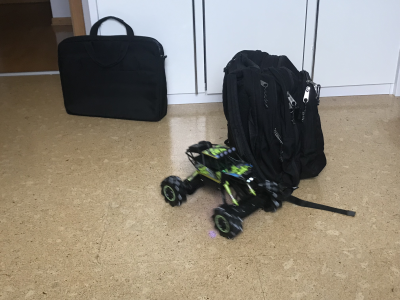remote control car: (160, 135, 286, 239)
